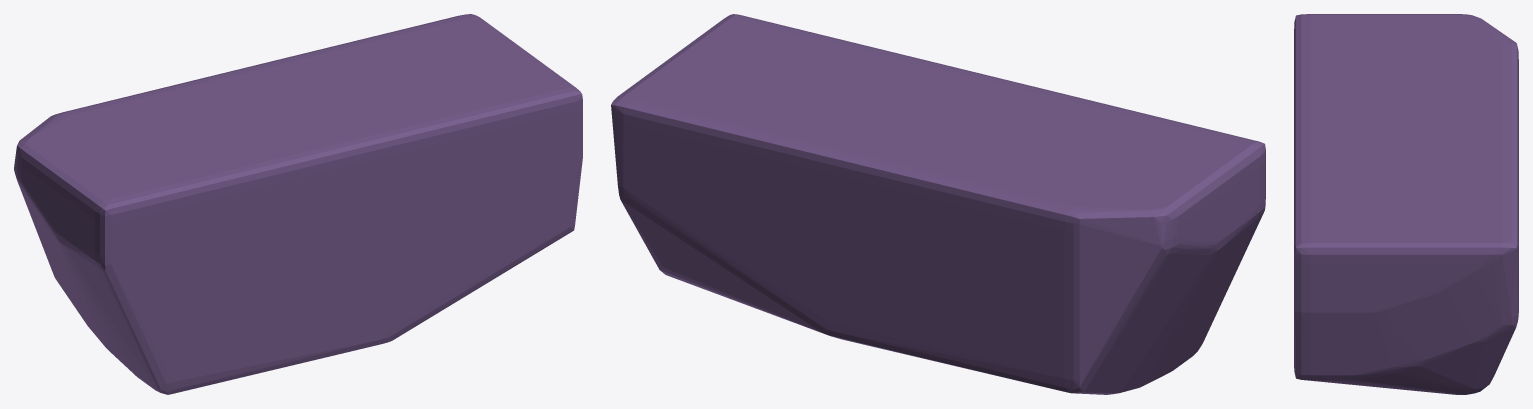
File: right_shoulder_pitch_link_part_1.obj
3 views of the same model, side by side, from view 1: azimuth 30°, elevation 25°; view 2: azimuth 150°, elevation 25°; view 3: azimuth 270°, elevation 25° (orthographic). The views are drawn at different scales.
Bounding box in the file's own units: 0.0673 × 0.0274 × 0.0271.
